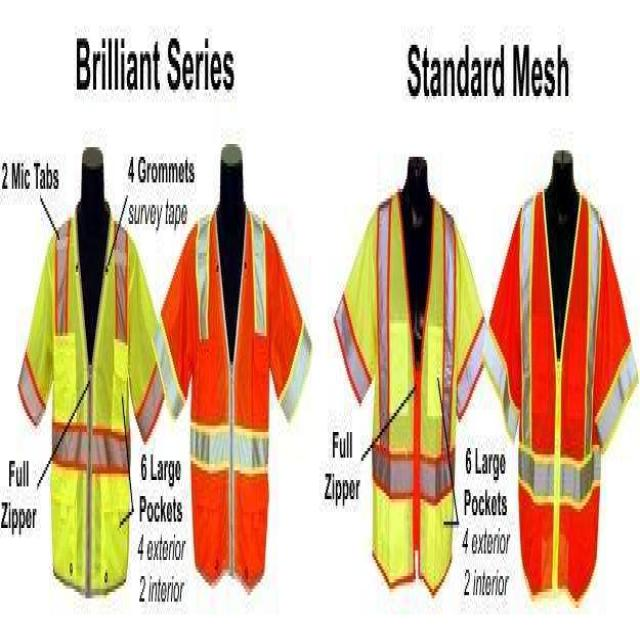Vest: (481, 186, 639, 598), (157, 195, 313, 602), (335, 186, 487, 592), (19, 208, 165, 605)
